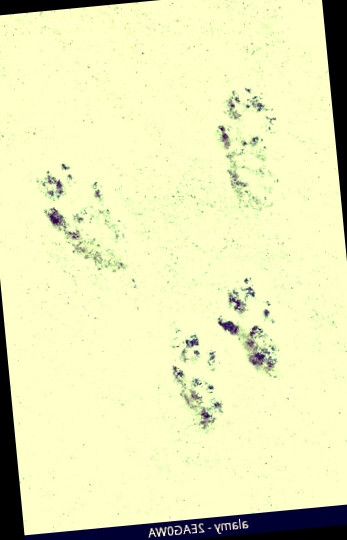ecureuil: (153, 253, 306, 446), (24, 135, 144, 283), (204, 71, 298, 221)
